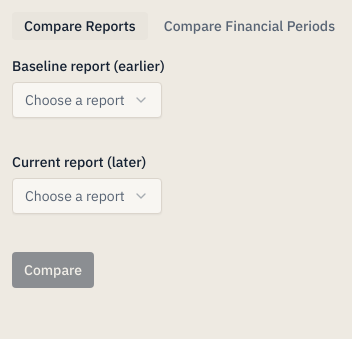
Test case: ChangeBriefSection › disables Compare when the same report is picked for both sides
Expected: the text "Baseline report (earlier)" is shown, x1=12 y1=57 x2=165 y2=75
What coordinates should you click on to do the following:
click the dropdown labelled "Choose a report" below "Baseline report (earlier)"
I would click on:
 (87, 100)
Its box is x1=12 y1=82 x2=162 y2=118.
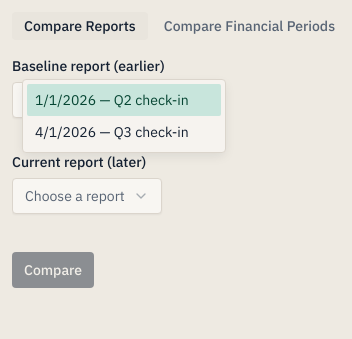
What coordinates should you click on to do the following:
click the option "1/1/2026 — Q2 check-in"
I would click on:
 (124, 100)
Its box is x1=27 y1=84 x2=221 y2=116.
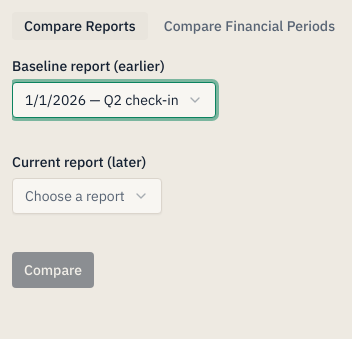
What coordinates should you click on to do the following:
click the dropdown labelled "Choose a report"
I would click on:
 (87, 196)
Its box is x1=12 y1=178 x2=162 y2=214.
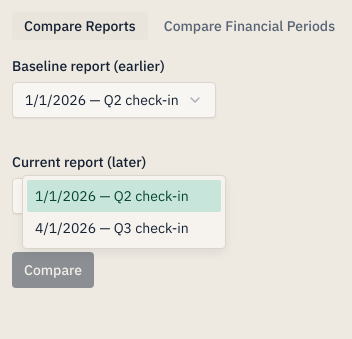
What coordinates should you click on to do the following:
click the option "1/1/2026 — Q2 check-in"
I would click on:
 (124, 196)
Its box is x1=27 y1=180 x2=221 y2=212.
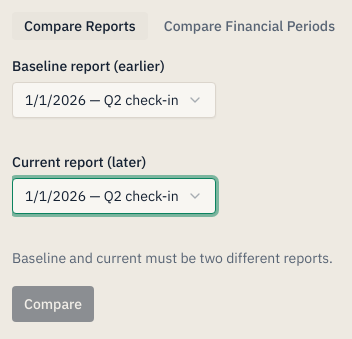
Expected: the button "Compare" is disabled, x1=12 y1=286 x2=94 y2=322
Expected: the text "Baseline and current must be two different reports." is shown, x1=12 y1=249 x2=333 y2=267
